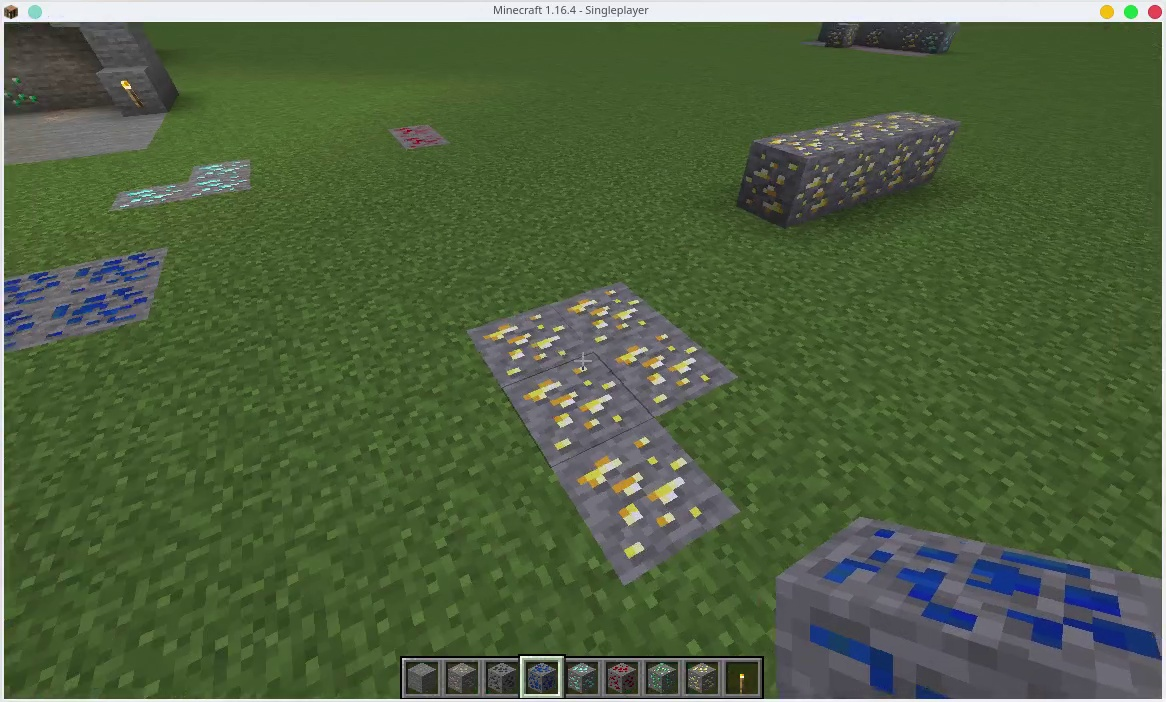gold: (584, 445, 700, 551), (740, 135, 839, 218), (623, 335, 723, 417), (527, 373, 628, 437), (474, 304, 573, 367), (572, 281, 643, 335), (834, 116, 883, 193), (913, 110, 954, 184), (875, 116, 918, 181), (687, 665, 718, 694), (828, 21, 854, 45), (864, 22, 885, 48), (902, 26, 921, 54)
